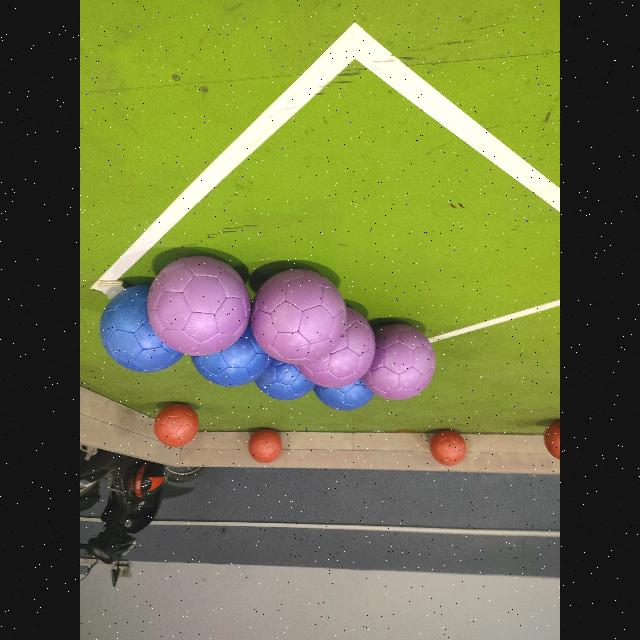B: (100, 286, 184, 372), (190, 325, 272, 387), (254, 344, 314, 398), (314, 360, 374, 410)
P: (147, 256, 250, 356), (250, 270, 346, 364), (290, 306, 376, 390), (361, 324, 435, 400)
R: (154, 404, 198, 446), (430, 430, 466, 466), (248, 429, 282, 463), (544, 421, 560, 461)
